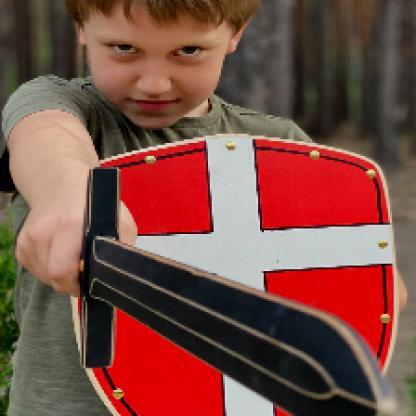child: (3, 1, 317, 415)
